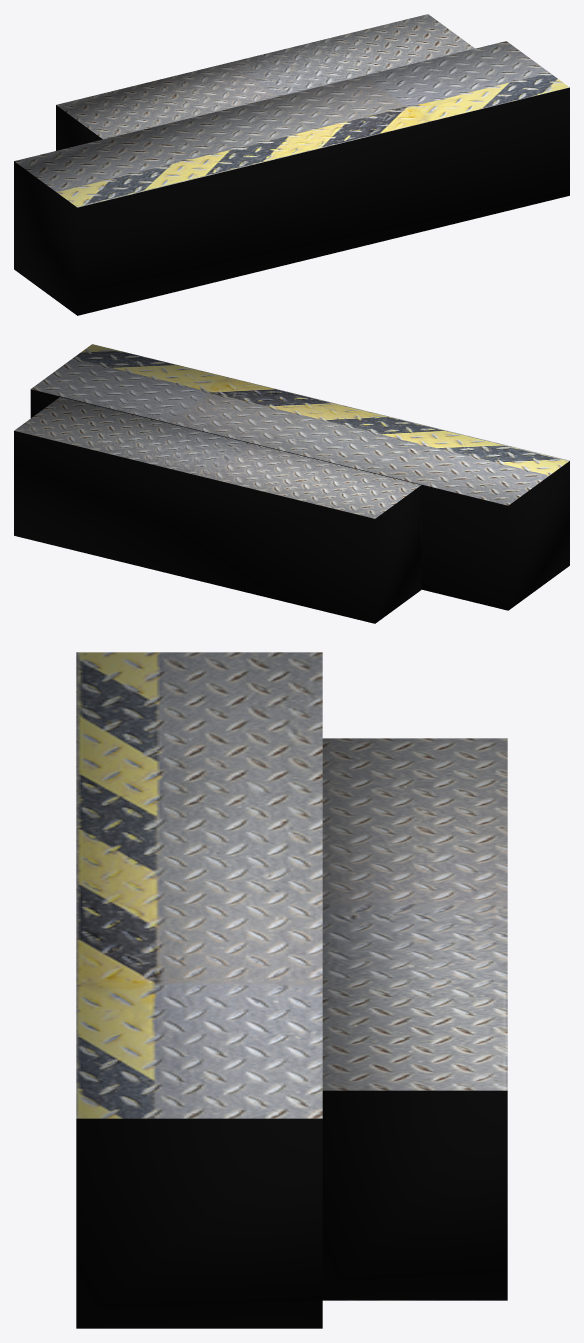
Rendered from suelo2.obj.
3 views of the same model, one above another, from view 1: azimuth 30°, elevation 25°; view 2: azimuth 150°, elevation 25°; view 3: azimuth 270°, elevation 25° (orthographic). The views are drawn at different scales.
Parts seen in each view (by area): view 1: cajasJuliyo1:polySurface6; view 2: cajasJuliyo1:polySurface6; view 3: cajasJuliyo1:polySurface6.
Part boxes in pixels (x1,y1,x2,y2): cajasJuliyo1:polySurface6: (14,14,569,315); cajasJuliyo1:polySurface6: (14,344,569,623); cajasJuliyo1:polySurface6: (76,652,507,1328).
Size of the model in its own units: 7.32 by 1.54 by 2.86.
